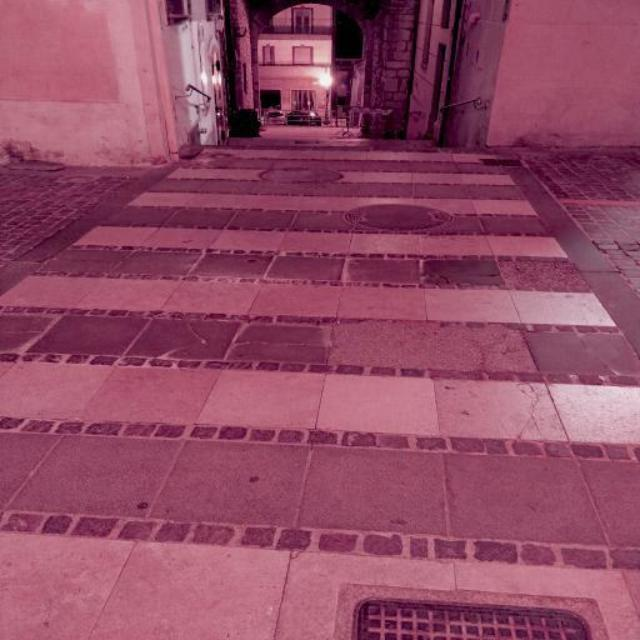sidewalk: (0, 147, 640, 640)
